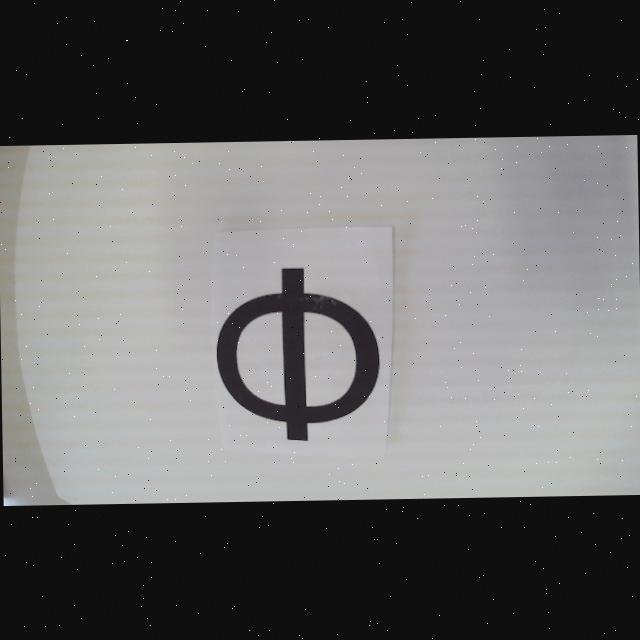PHI: (214, 266, 380, 443)
